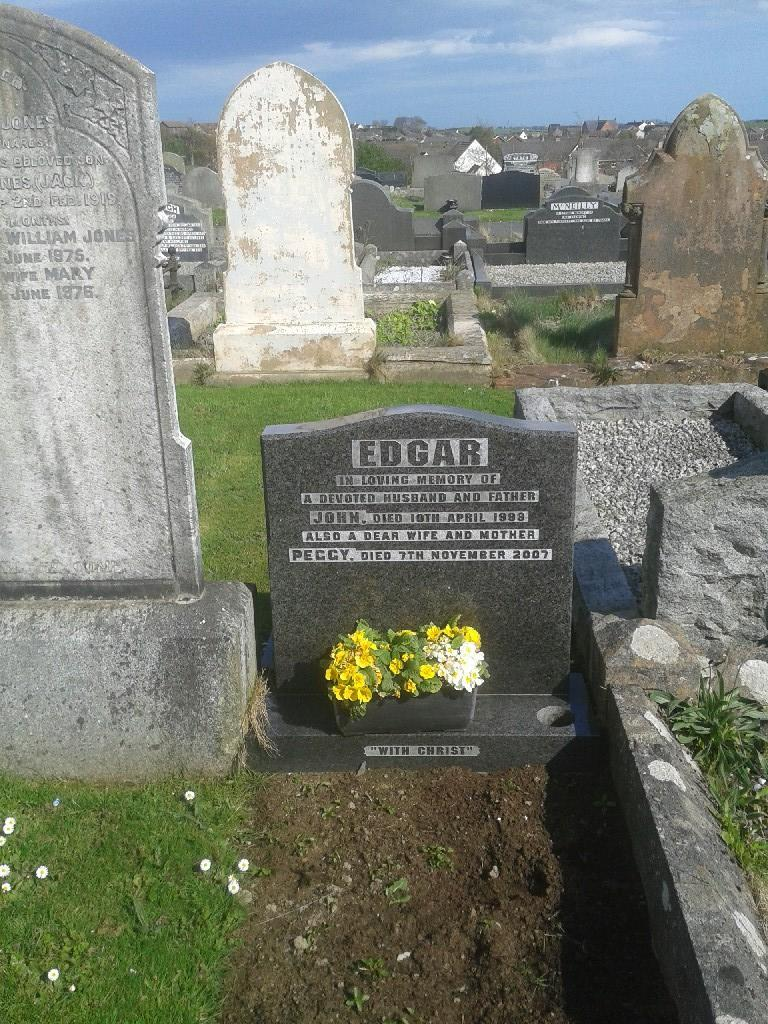upright: (244, 393, 588, 774)
